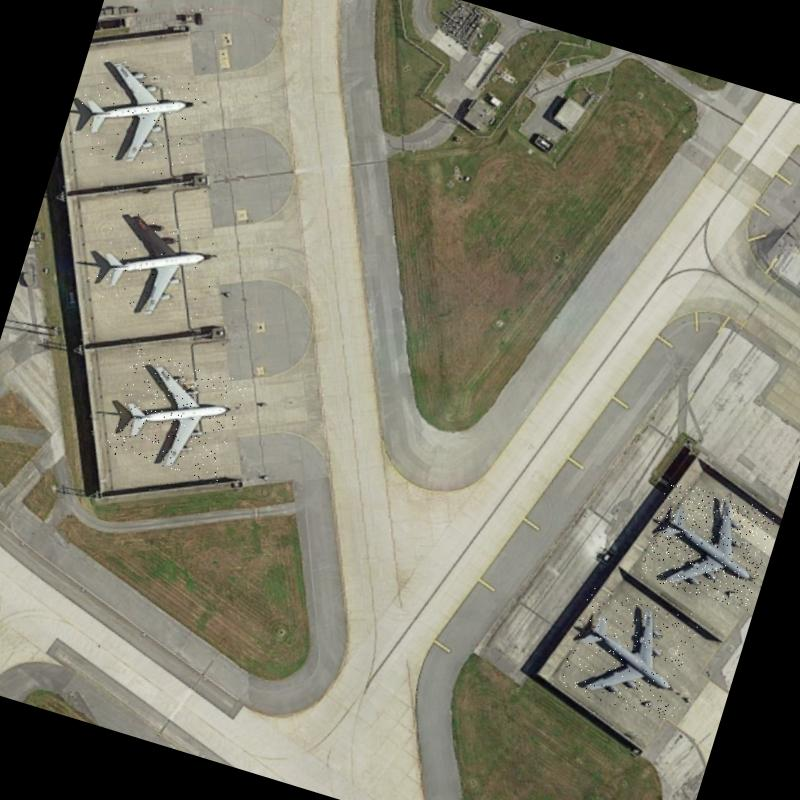A11: (103, 347, 248, 486), (68, 52, 210, 183), (82, 204, 226, 331)
A14: (556, 582, 702, 723), (638, 479, 778, 611)
